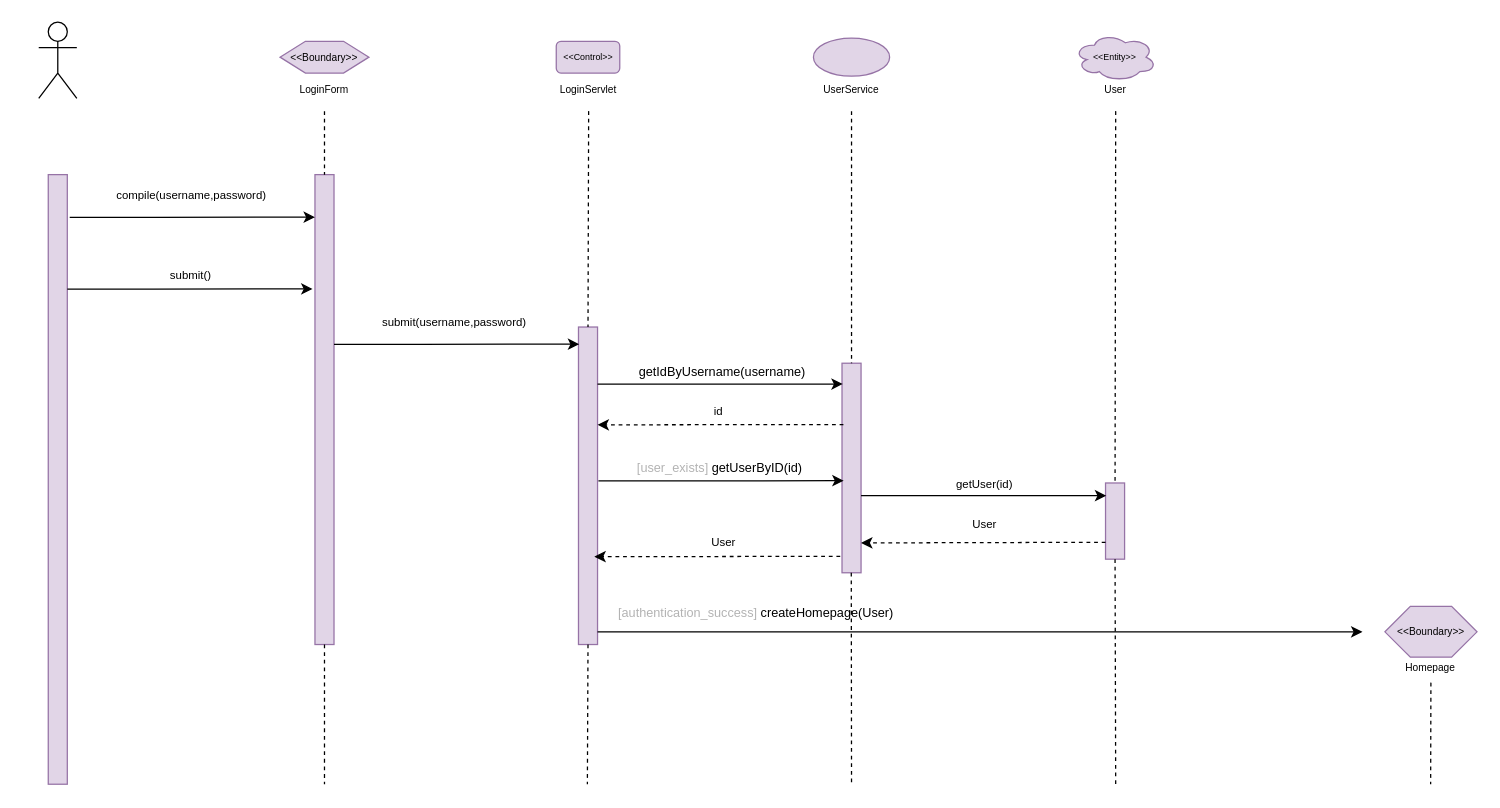
The diagram is 1500 pixels wide and 808 high, and some of its shapes have lost their labels. Each missing label, with the box of its shape:
<<Model>>: (812, 37, 890, 76)
Francesco: (37, 21, 77, 98)
